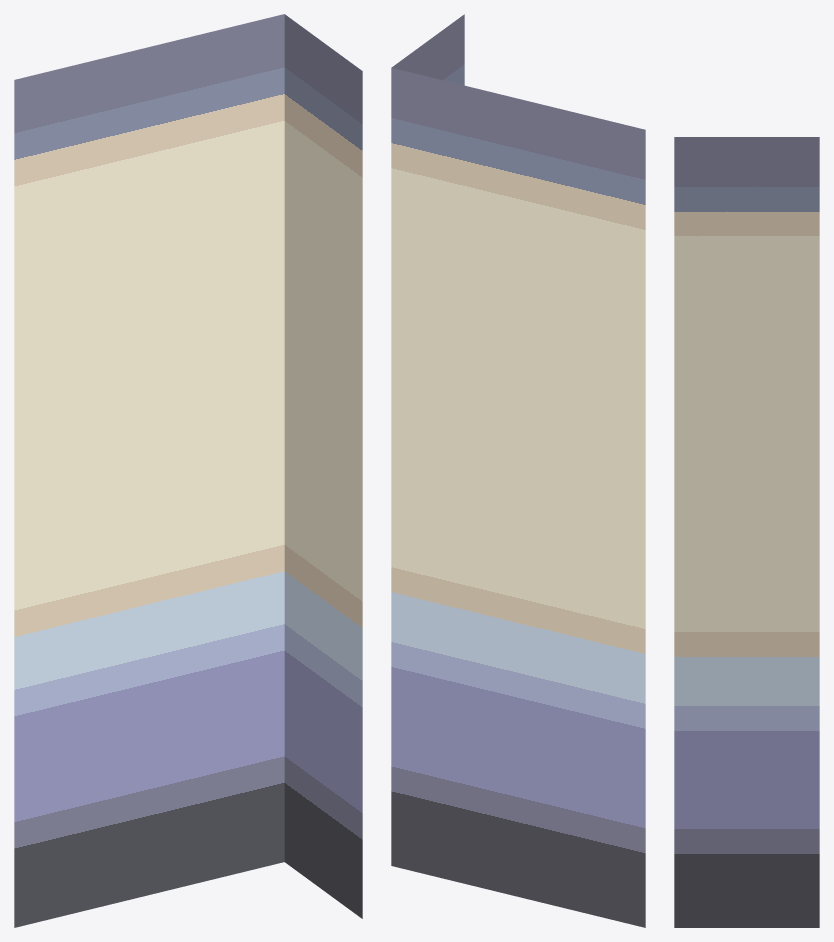
3 views of the same model, side by side, from view 1: azimuth 30°, elevation 25°; view 2: azimuth 150°, elevation 25°; view 3: azimuth 270°, elevation 25° (orthographic). The views are drawn at different scales.
Size of the model in its own units: 1 by 3 by 0.5.
1 material, 1 textured.
